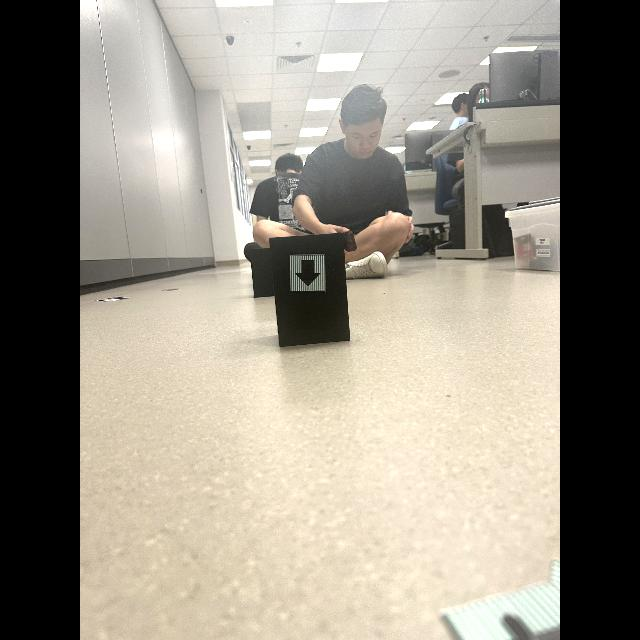DOWN: (295, 260, 320, 286)
